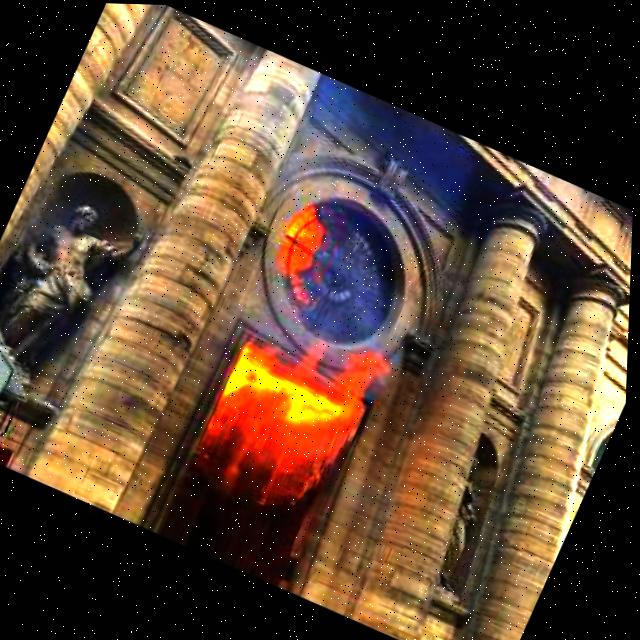Fire: (207, 295, 402, 469), (264, 187, 345, 283)
